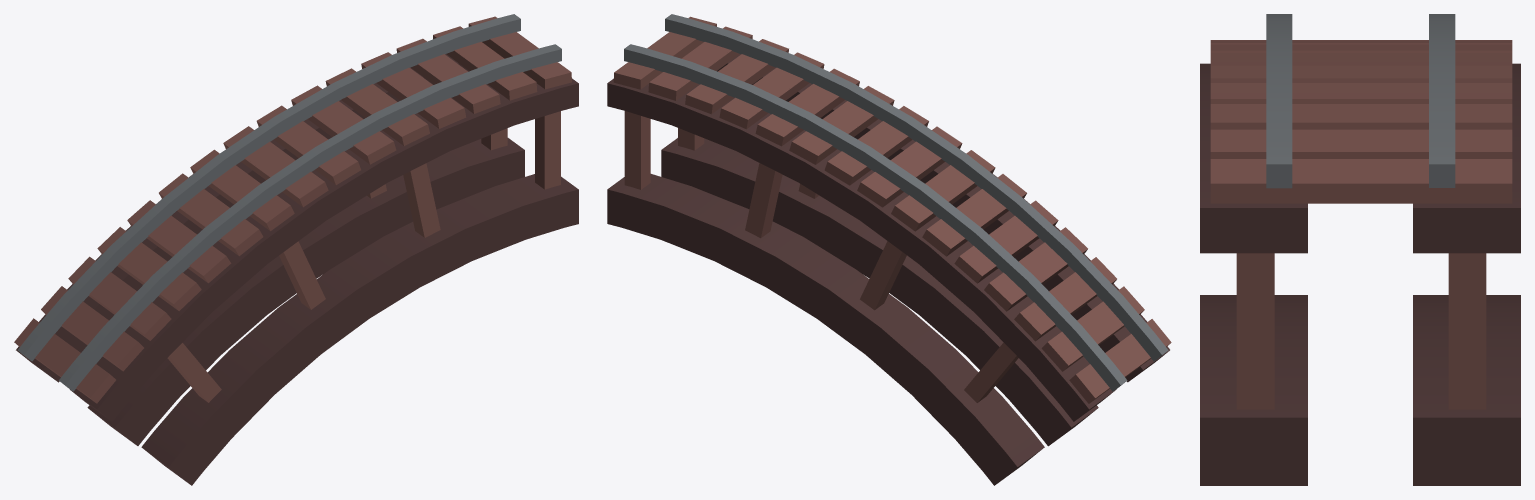
The model's file is DarkRoseWoodMechMedium0_85GaugeFall1.fbx.
The picture shows the model from 3 angles, left to right: view 1: azimuth 30°, elevation 25°; view 2: azimuth 150°, elevation 25°; view 3: azimuth 270°, elevation 25°; orthographic projection. The views are drawn at different scales.
Visible parts, largest first — view 1: DarkRoseWoodMechMedium0_85GaugeFall1; view 2: DarkRoseWoodMechMedium0_85GaugeFall1; view 3: DarkRoseWoodMechMedium0_85GaugeFall1.
Boxes of the visible parts, bbox=[...] form: DarkRoseWoodMechMedium0_85GaugeFall1: bbox=[14, 14, 578, 485]; DarkRoseWoodMechMedium0_85GaugeFall1: bbox=[607, 14, 1171, 485]; DarkRoseWoodMechMedium0_85GaugeFall1: bbox=[1200, 14, 1520, 485].
Bounding box in the file's own units: 706 × 449 × 200.
